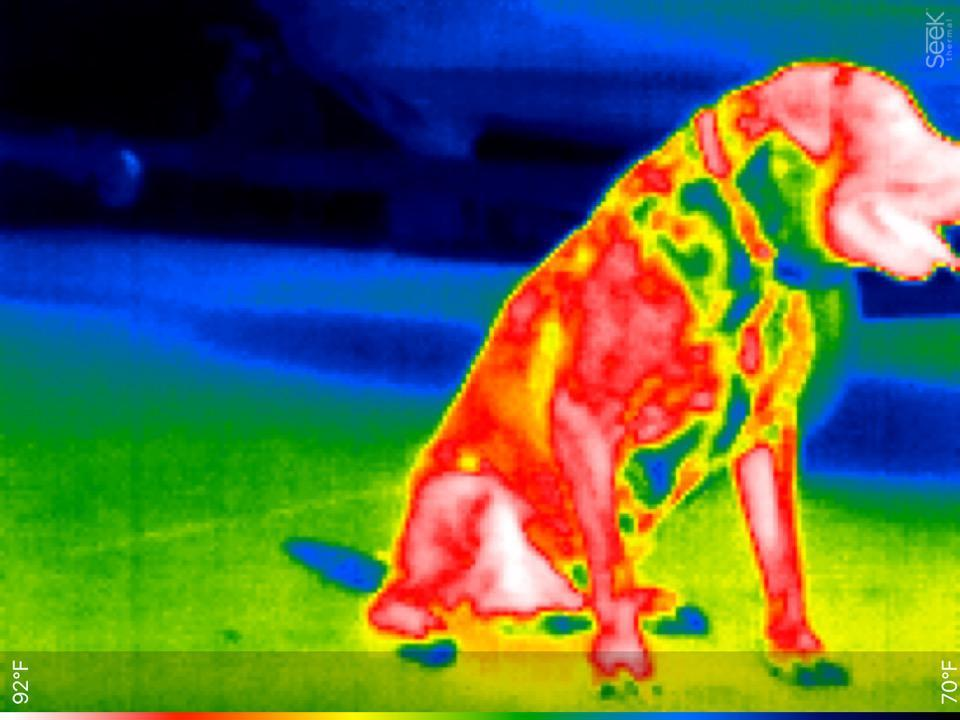dog: (360, 54, 957, 686)
